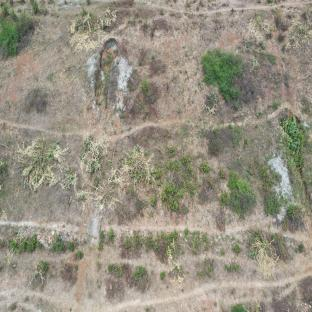rock_toe: (15, 227, 87, 252)
